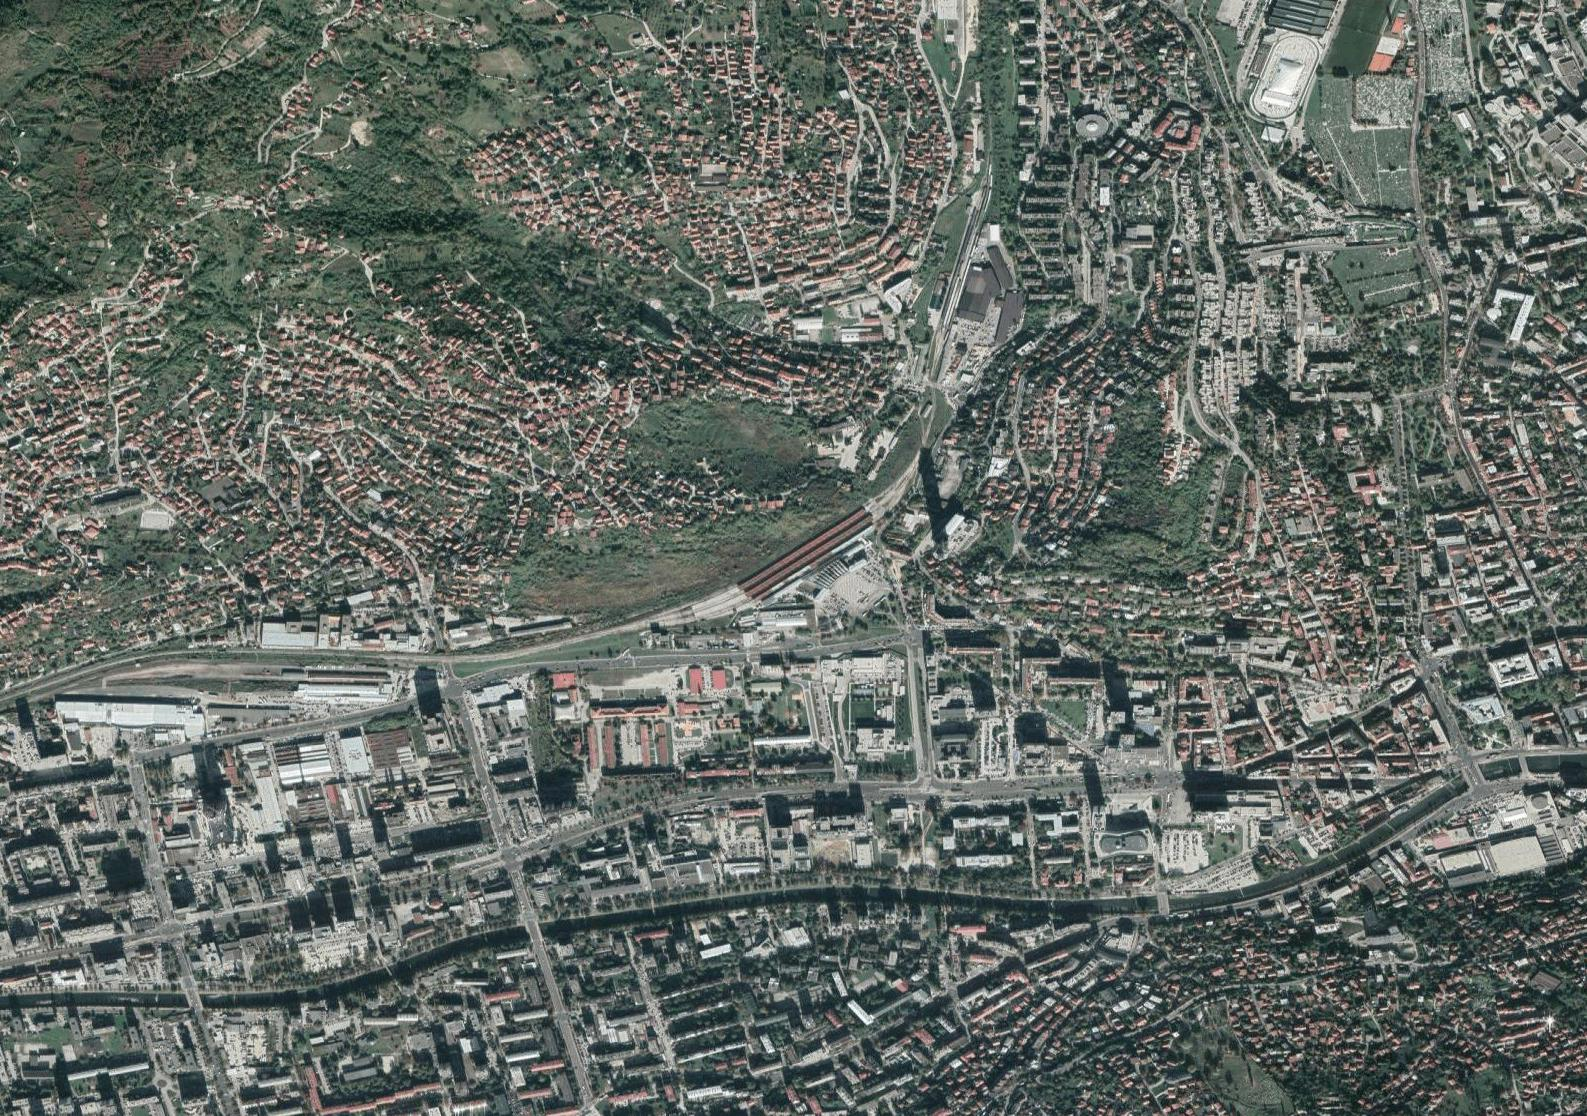train_station: (729, 496, 886, 608)
